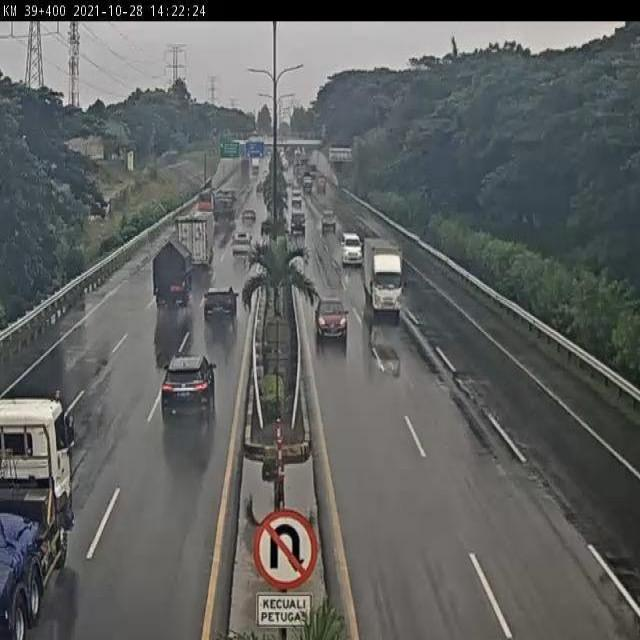car: (161, 351, 217, 420), (314, 294, 350, 346), (202, 284, 240, 324), (229, 231, 254, 264), (340, 232, 364, 264), (320, 208, 338, 232), (290, 210, 306, 234)
truck-l-: (170, 211, 215, 276)
truck-m-: (150, 241, 194, 311)
truck-s-: (362, 234, 405, 318)
truck-xl-: (0, 393, 76, 640)
